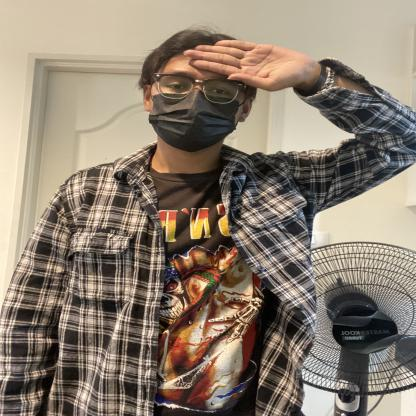Sick: (94, 9, 327, 144)
